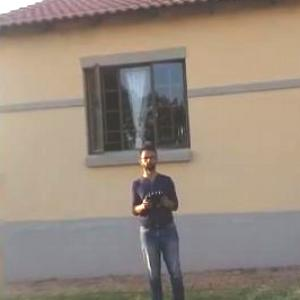follow: (126, 140, 195, 299)
